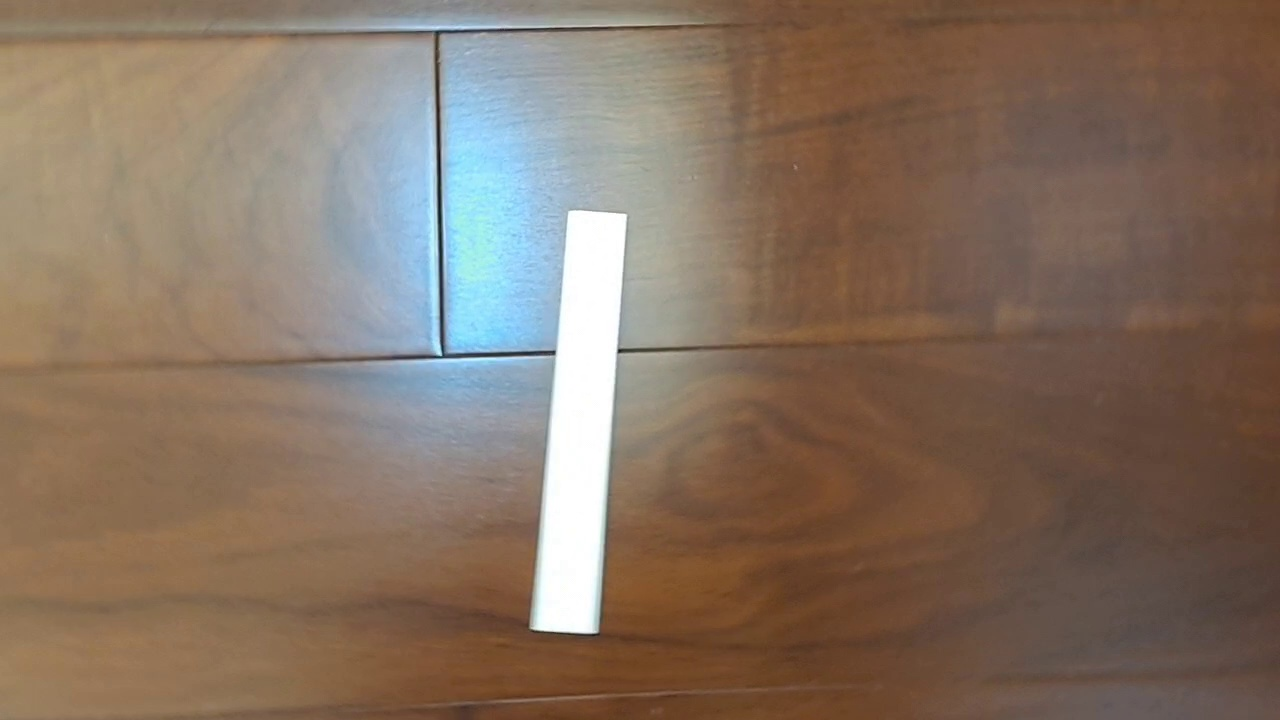ruler: (527, 209, 628, 636)
